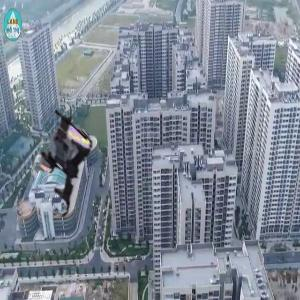drone: (15, 113, 113, 211)
